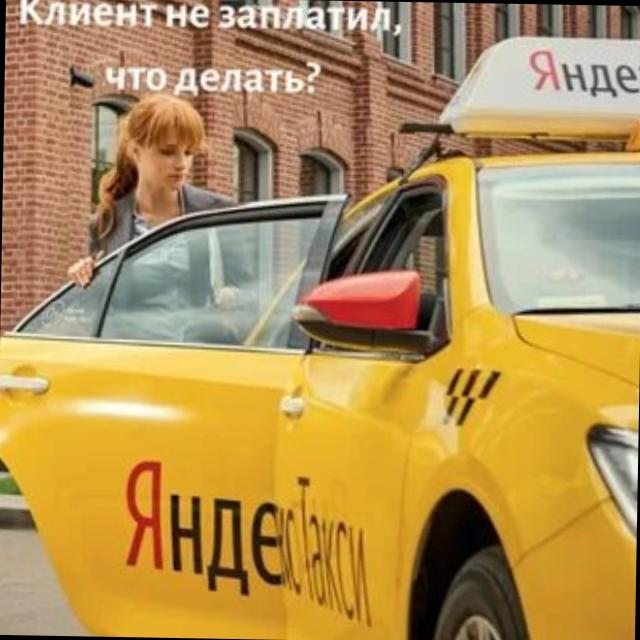taxi: (1, 24, 640, 640)
